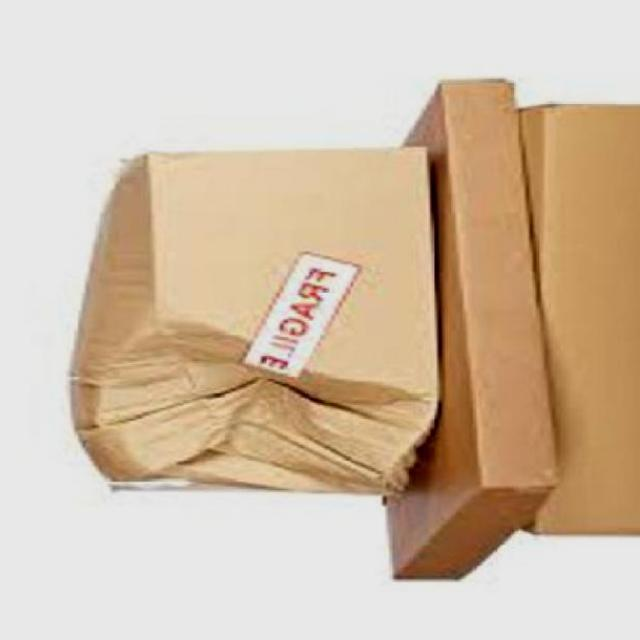crushed: (65, 317, 437, 499)
